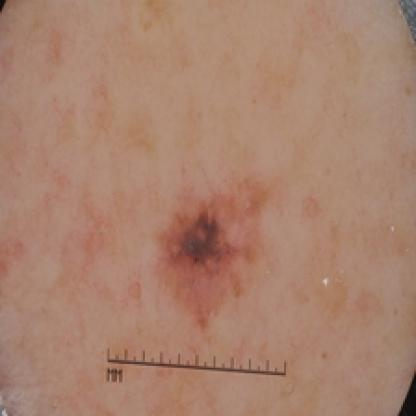Skin_Cancer-Malignant: (156, 185, 262, 325)
